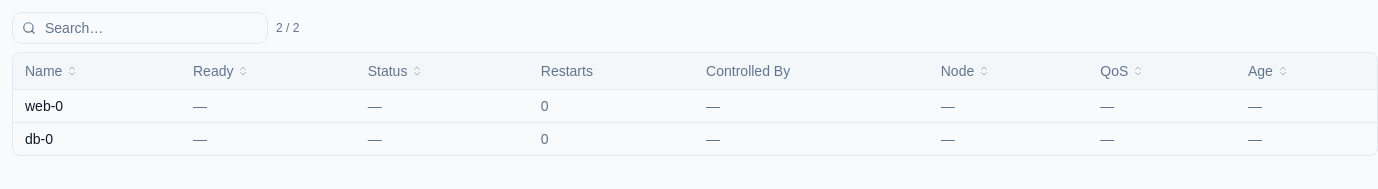
Test case: ResourceTable › shows a no-matches state
Type "zzz" into the field named "Search resources".
click(140, 28); type("zzz")  # box [12, 12, 268, 44]
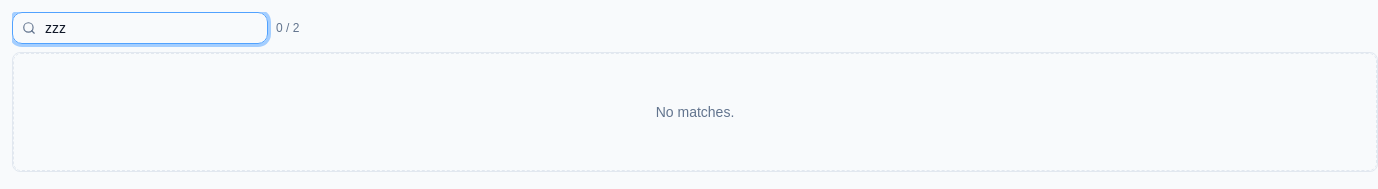
Expected: the text "No matches." is shown
